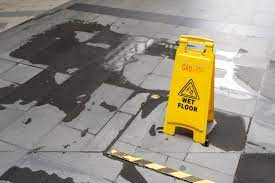wet caution sign: (159, 27, 219, 150)
